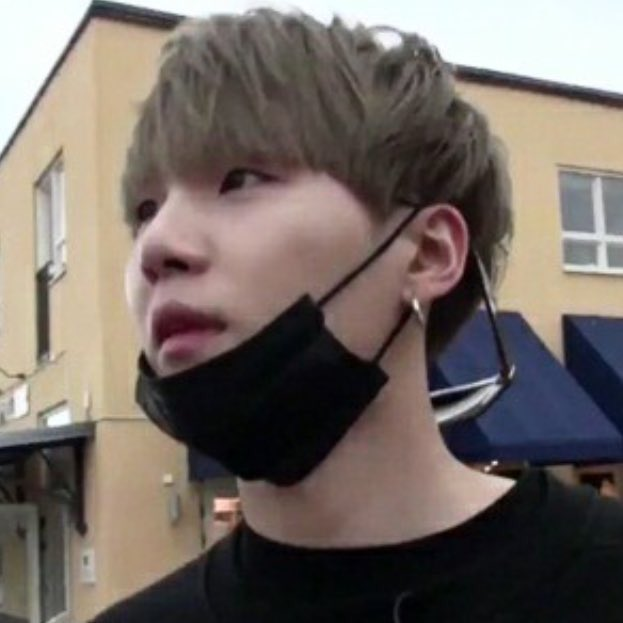mask_weared_incorrect: (120, 180, 379, 429)
